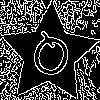Q: (24, 29, 76, 89)
